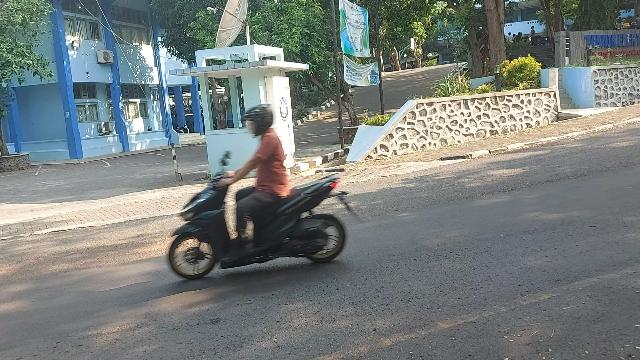helm: (241, 105, 274, 137)
motor: (170, 151, 361, 281)
